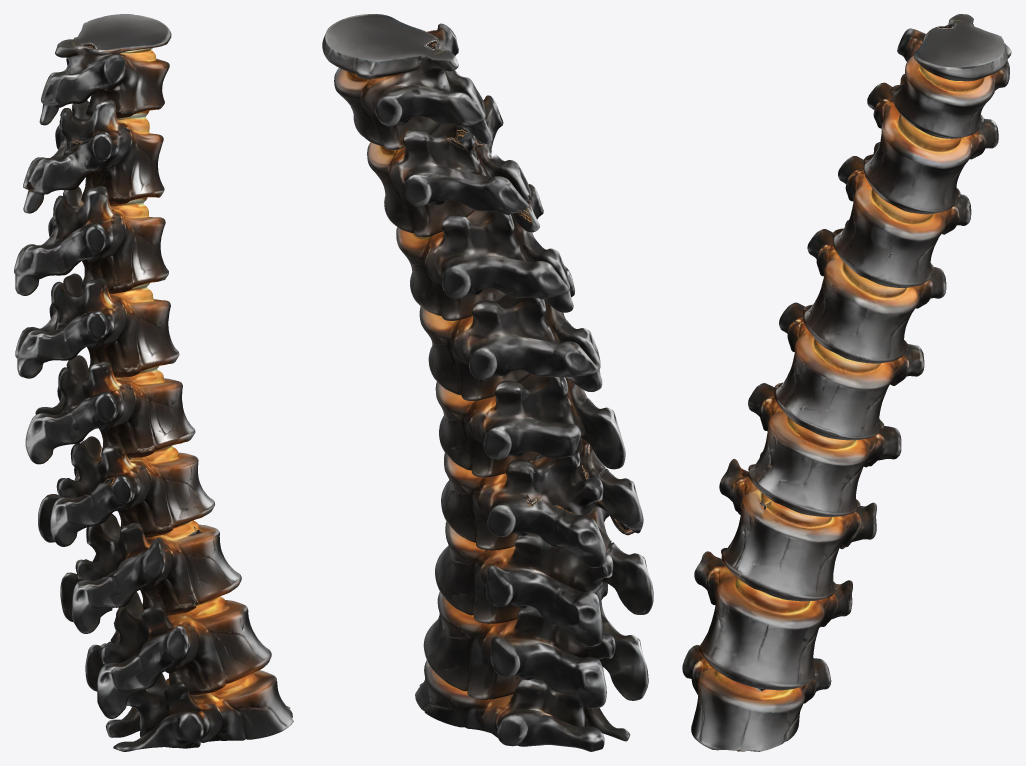
The model's file is spine-desktop.glb.
3 renders of one model, left to right at view 1: azimuth 30°, elevation 25°; view 2: azimuth 150°, elevation 25°; view 3: azimuth 270°, elevation 25°, orthographic. The views are drawn at different scales.
Parts seen in each view (by area): view 1: tripo_node_b2a1ff4f-8972-4df4-b4bd-6063b4841254; view 2: tripo_node_b2a1ff4f-8972-4df4-b4bd-6063b4841254; view 3: tripo_node_b2a1ff4f-8972-4df4-b4bd-6063b4841254.
Boxes of the visible parts, left/top/right/bottom form: tripo_node_b2a1ff4f-8972-4df4-b4bd-6063b4841254: left=14, top=14, right=293, bottom=751; tripo_node_b2a1ff4f-8972-4df4-b4bd-6063b4841254: left=322, top=14, right=653, bottom=751; tripo_node_b2a1ff4f-8972-4df4-b4bd-6063b4841254: left=682, top=14, right=1011, bottom=751.
Size of the model in its own units: 0.3555 by 0.9823 by 0.4338.
1 material, 1 textured.
